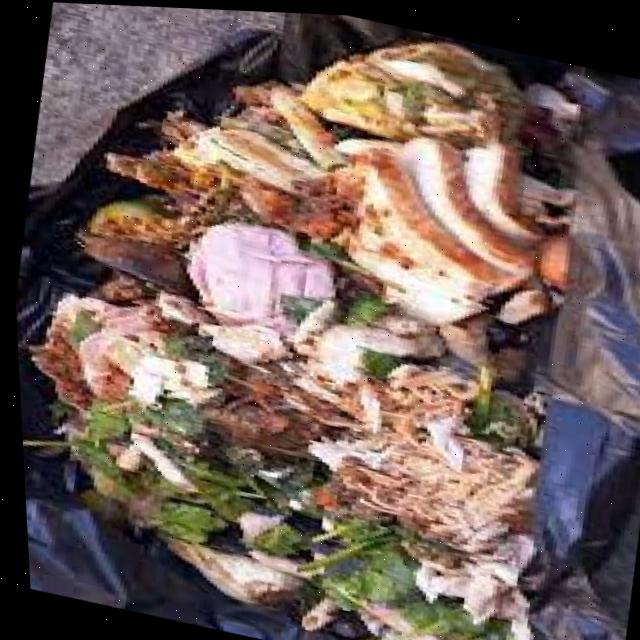Wet: (0, 0, 640, 640), (258, 82, 622, 359), (68, 432, 391, 640), (118, 189, 372, 365)
